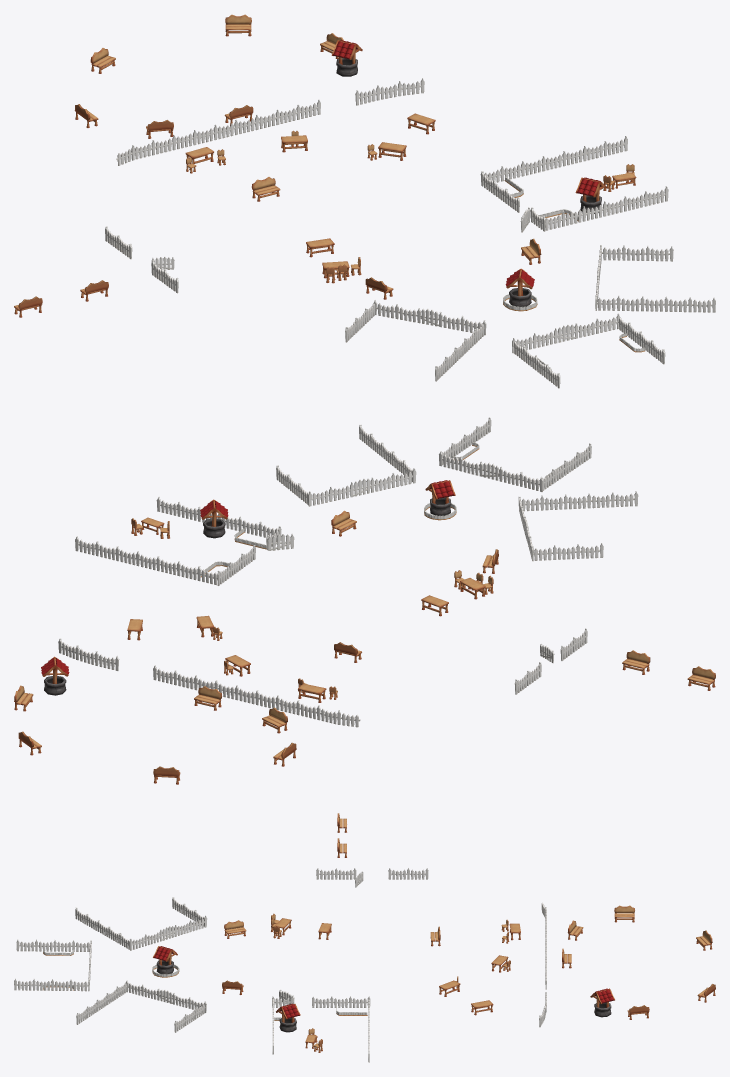
Rendered from MISSING ASSETS.fbx.
3 views of the same model, one above another, from view 1: azimuth 30°, elevation 25°; view 2: azimuth 150°, elevation 25°; view 3: azimuth 270°, elevation 25° (orthographic). The views are drawn at different scales.
Size of the model in its own units: 18.33 by 0.8985 by 22.83.
3 materials, 2 textured.
